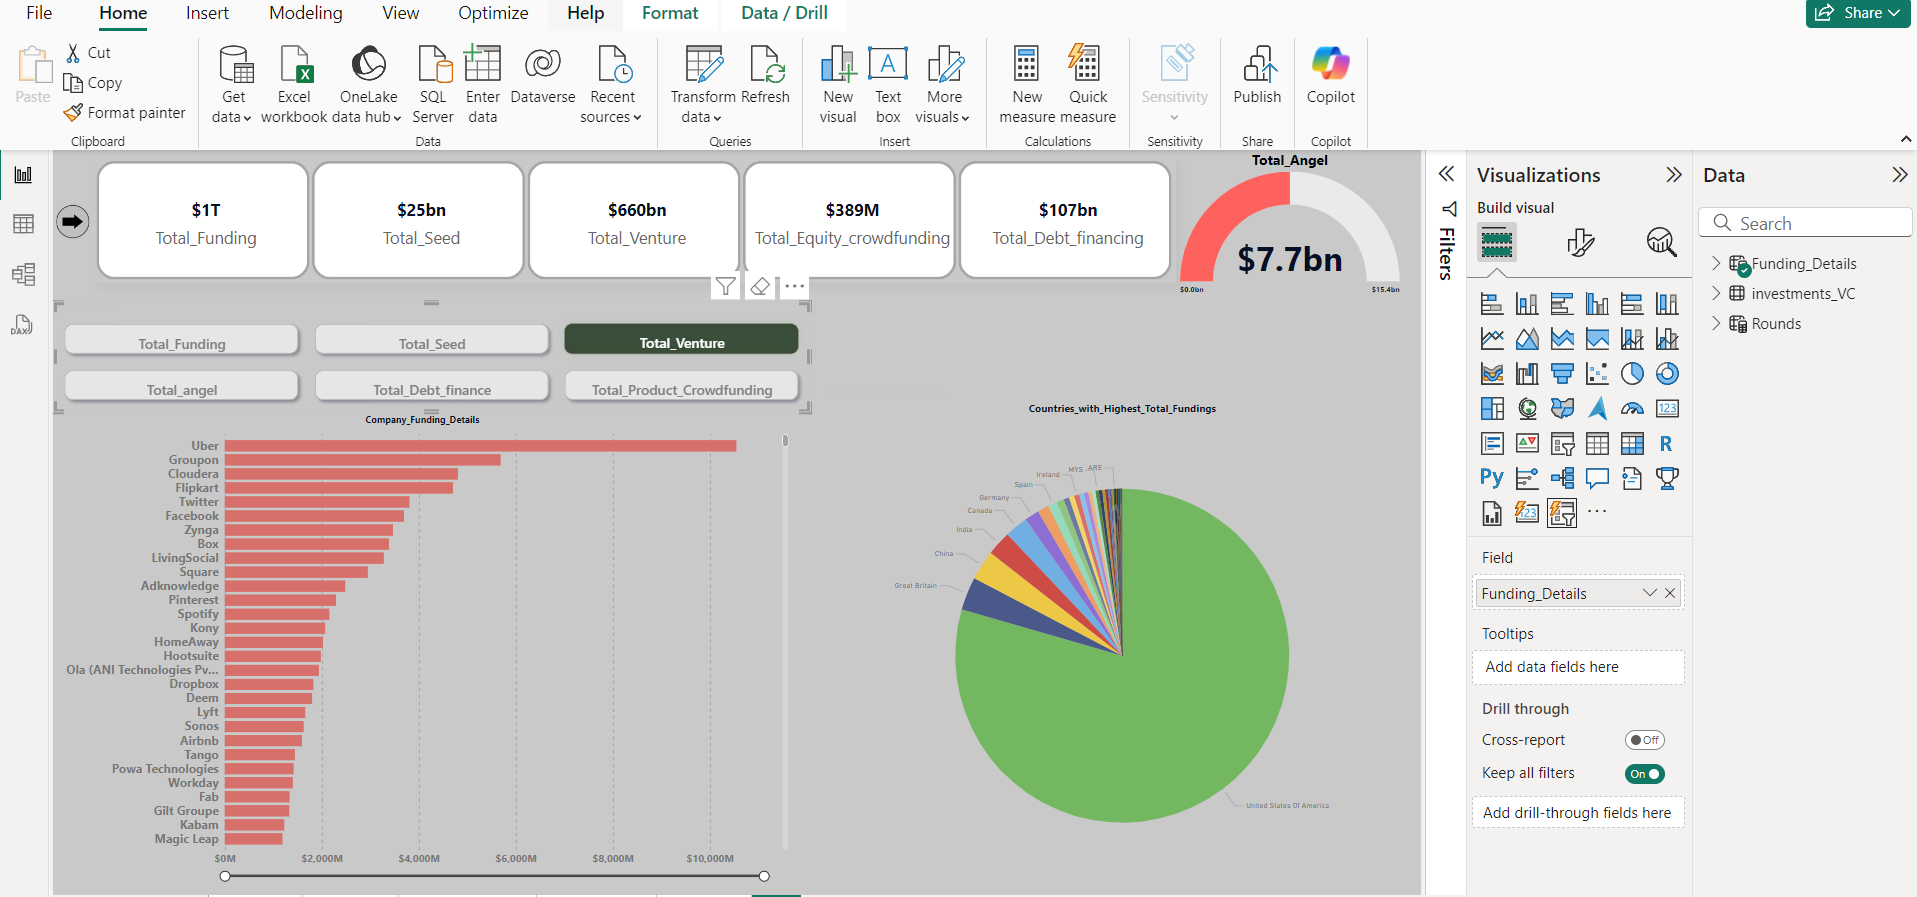

The page's visual inventory and layout, read from the dashboard file:
{"tool":"powerbi","page":{"name":"Page 1","canvas":[1980,1080],"ordinal":0},"visuals":[{"type":"cardVisual","fields":{"Data":["investments_VC.Total_Funding","Sum(investments_VC.Seed)","Sum(investments_VC.Venture)","Sum(investments_VC.Equity_crowdfunding)","Sum(investments_VC.Debt_financing)"]},"box":[57.5,10,1567.5,182.5],"z":0},{"type":"gauge","title":"Total_Angel","fields":{"Y":["Sum(investments_VC.angel)"]},"box":[1602.4,0,378.6,219],"z":1000},{"type":"barChart","title":"Company_Funding_Details","fields":{"Y":["investments_VC.Total_Funding"],"Category":["investments_VC.Company_name"]},"box":[0,360.1,1069.5,702.1],"z":2000},{"type":"advancedSlicerVisual","fields":{"Values":["Funding_Details.Funding_Details"]},"box":[0,218.6,1097.4,161.3],"z":3000},{"type":"pieChart","fields":{"Category":["investments_VC.Country_name"],"Y":["investments_VC.Total_Funding"]},"box":[1116.6,342,863.2,738.3],"z":4000},{"type":"image","box":[0,62.5,57.5,80],"z":5000}]}

Visuals, with their boxes on the page's 1980x1080 design canvas (x1, y1, x2, y2). These are canvas units, not pixel positions in the 1917x897 screenshot, which may show the page scaled, cropped or inside an application window:
cardVisual - investments_VC.Total_Funding x Sum(investments_VC.Seed): [58, 10, 1625, 192]
"Total_Angel" gauge: [1602, 0, 1981, 219]
"Company_Funding_Details" barChart: [0, 360, 1070, 1062]
advancedSlicerVisual - Funding_Details.Funding_Details: [0, 219, 1097, 380]
pieChart - investments_VC.Country_name x investments_VC.Total_Funding: [1117, 342, 1980, 1080]
image: [0, 62, 58, 142]
